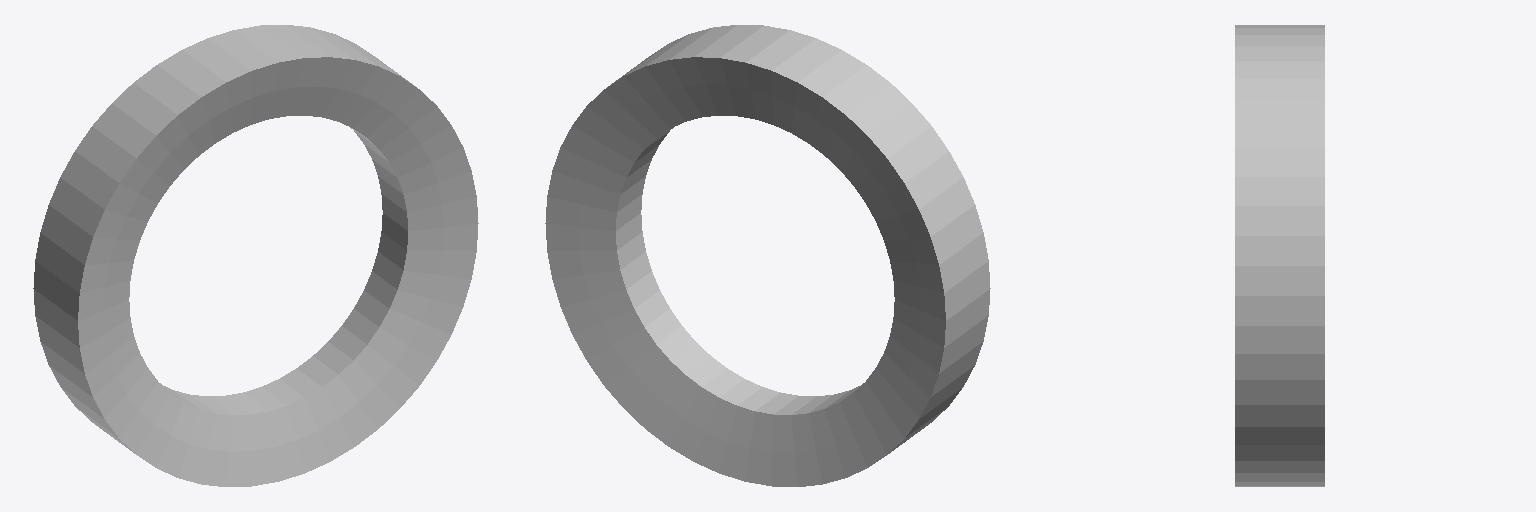
The model's file is flat_torus.obj.
3 views of the same model, side by side, from view 1: azimuth 30°, elevation 25°; view 2: azimuth 150°, elevation 25°; view 3: azimuth 270°, elevation 25° (orthographic).
Bounding box in the file's own units: 2.25 × 2.25 × 0.433.